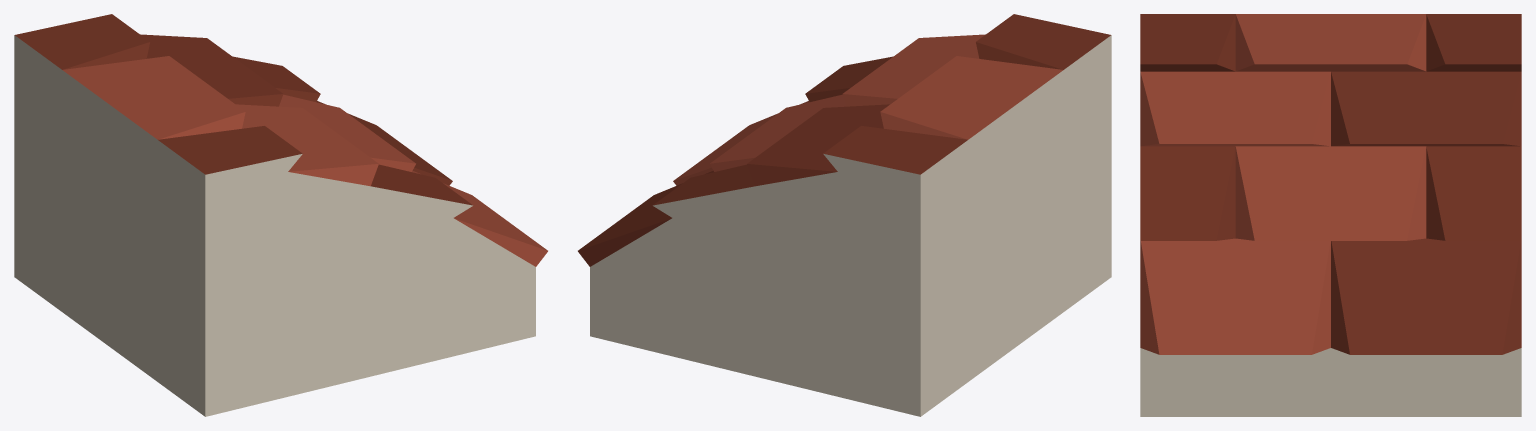
Rendered from Roof_Convex_Side.obj.
3 renders of one model, left to right at view 1: azimuth 30°, elevation 25°; view 2: azimuth 150°, elevation 25°; view 3: azimuth 270°, elevation 25°, orthographic.
Parts seen in each view (by area): view 1: object1; view 2: object1; view 3: object1.
Boxes of the visible parts, box(x1,y1,x2,y2) form: object1: box(14, 14, 547, 416); object1: box(578, 14, 1111, 416); object1: box(1140, 14, 1521, 416).
Size of the model in its own units: 1.07 by 0.7 by 1.
